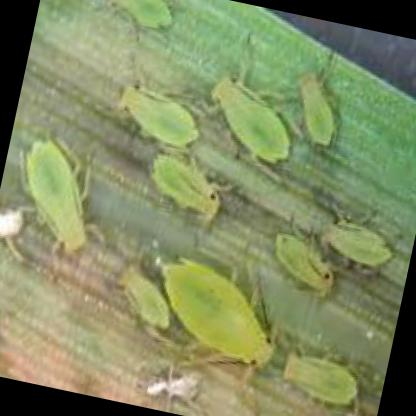schizaphis graminum: (158, 265, 275, 366), (24, 137, 85, 255), (211, 80, 287, 165), (116, 80, 194, 145), (146, 154, 217, 220), (282, 354, 360, 405), (275, 235, 335, 292), (322, 222, 389, 270), (300, 71, 332, 144)
